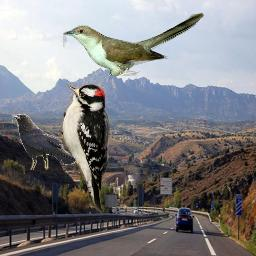Crow: (12, 114, 76, 170)
Cuckoo: (63, 12, 204, 76)
Woodpecker: (59, 84, 110, 212)
